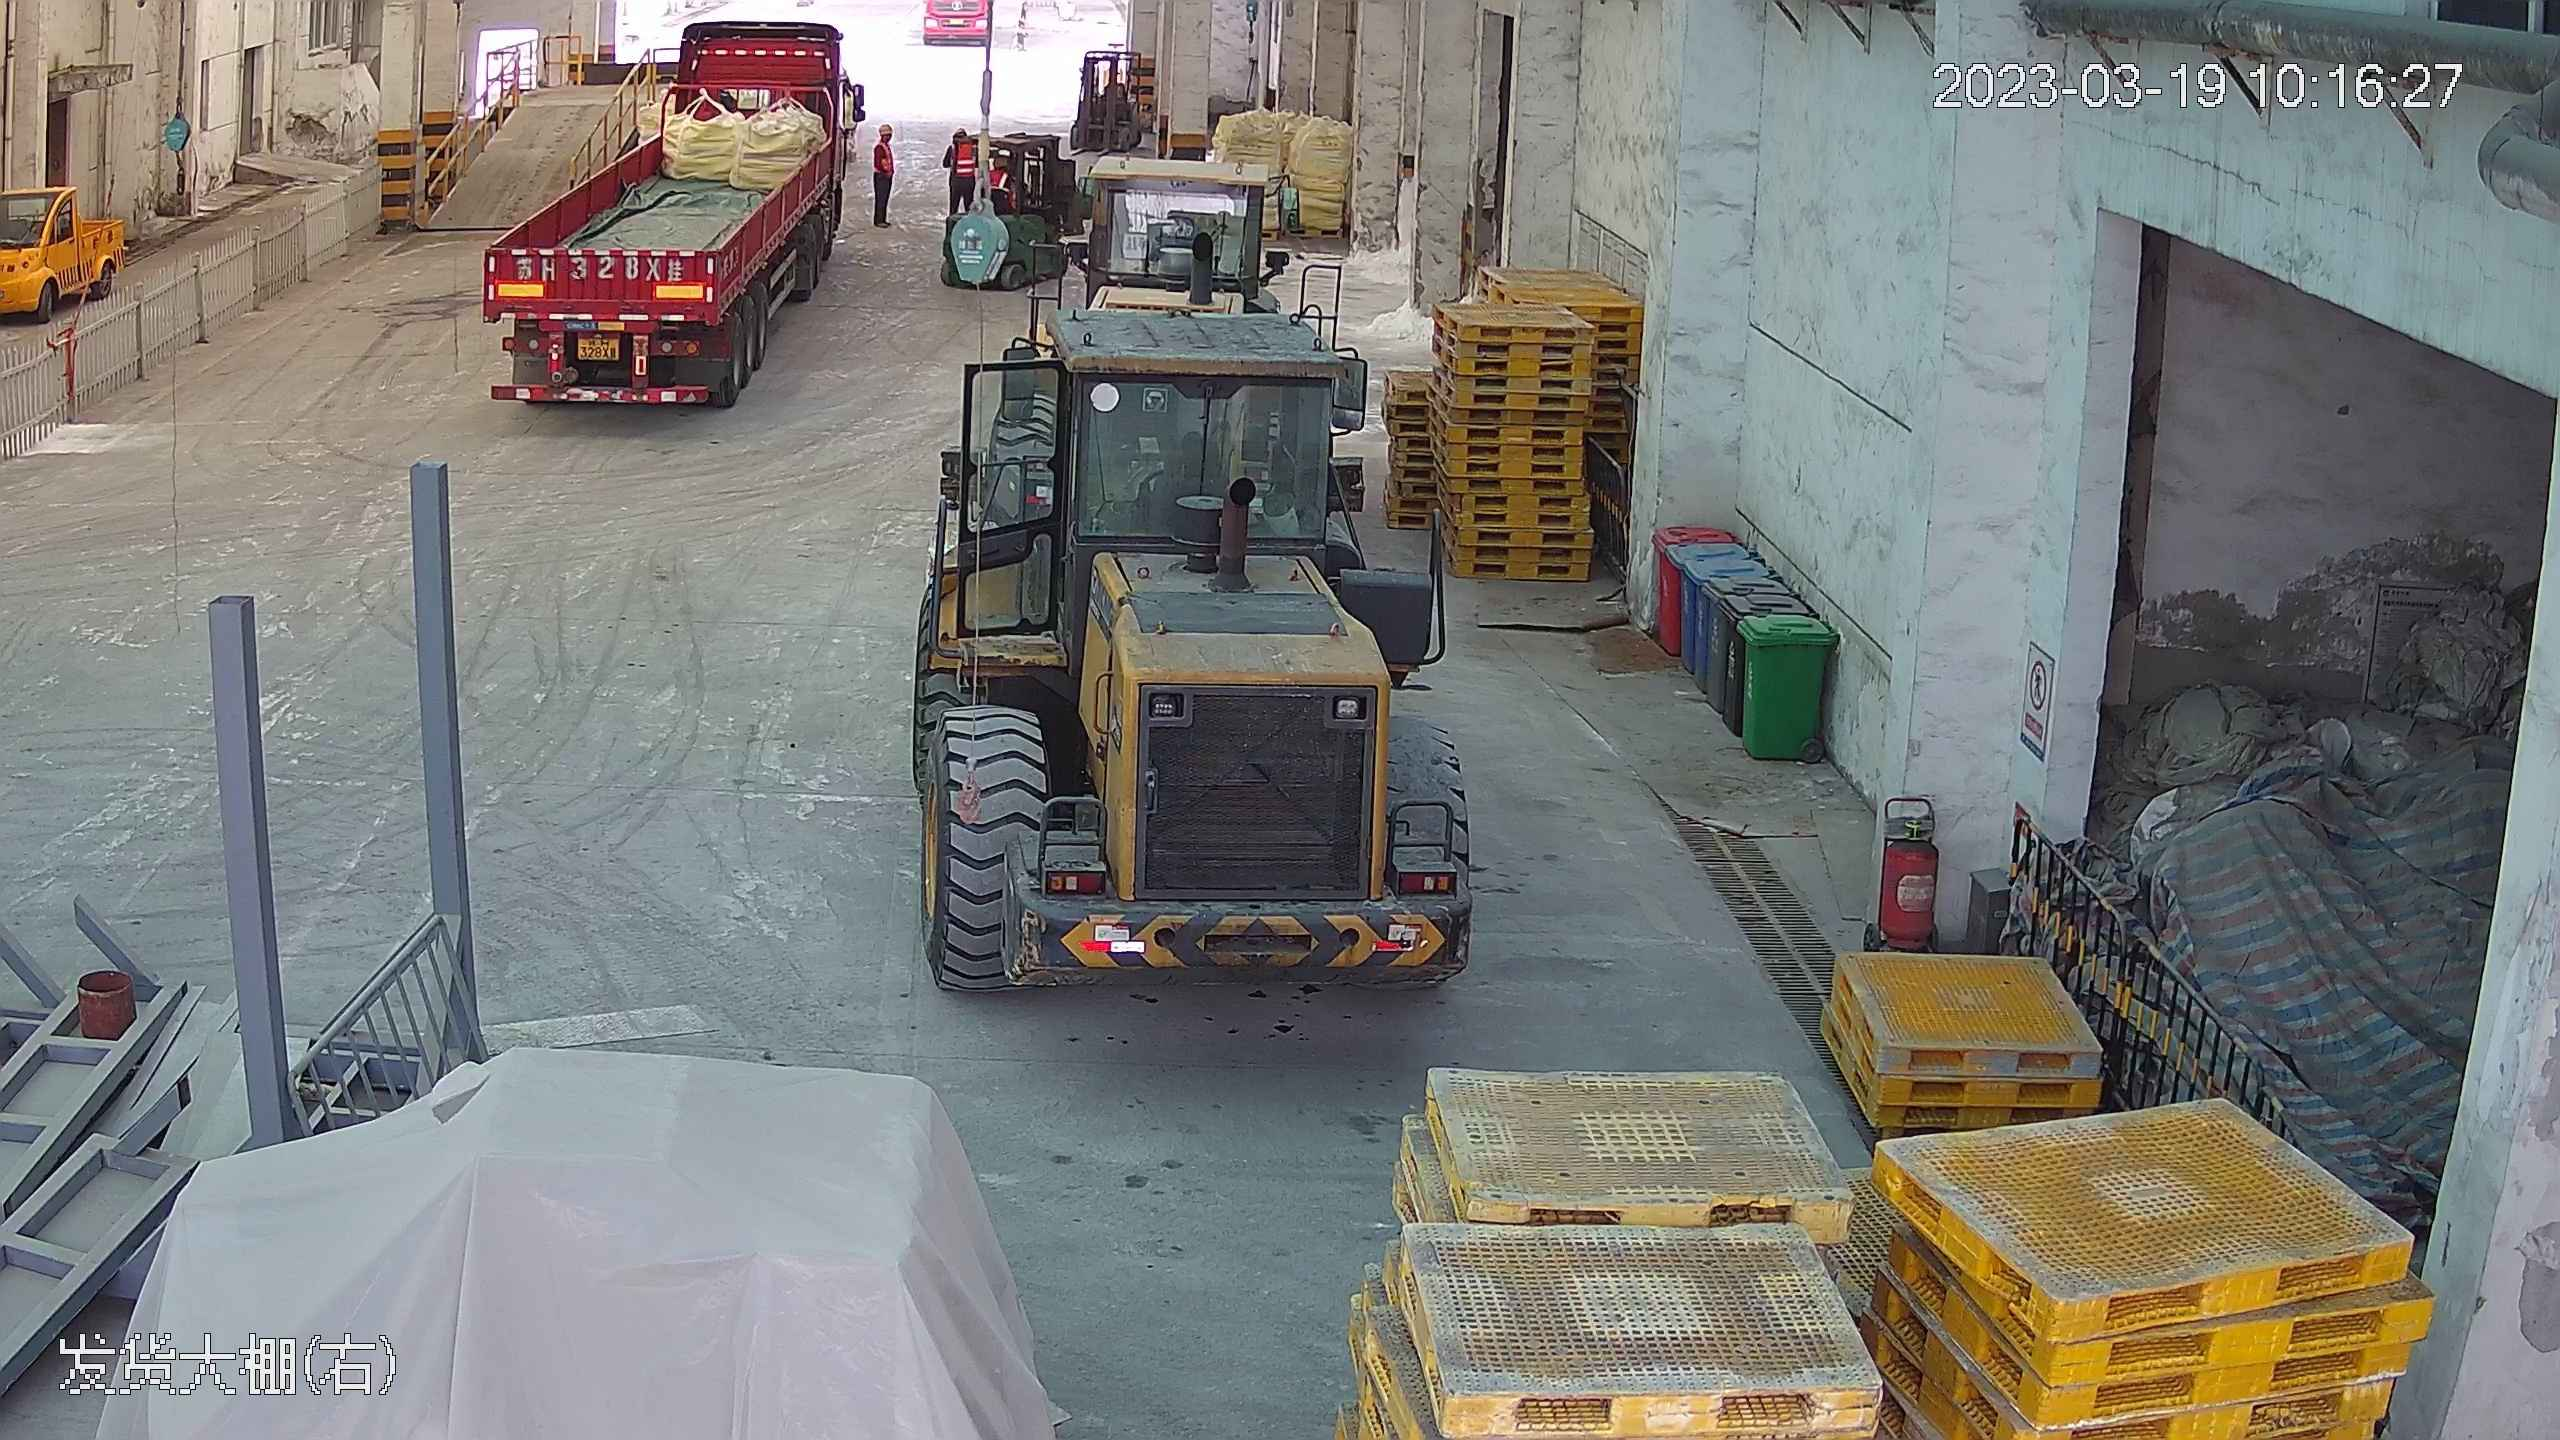head: (870, 118, 896, 154), (988, 155, 1013, 191)
helmet: (948, 127, 975, 161), (995, 155, 1009, 170), (879, 121, 892, 137), (953, 127, 965, 137)
people: (865, 118, 900, 230), (943, 125, 976, 224)
truck: (464, 19, 855, 418)
